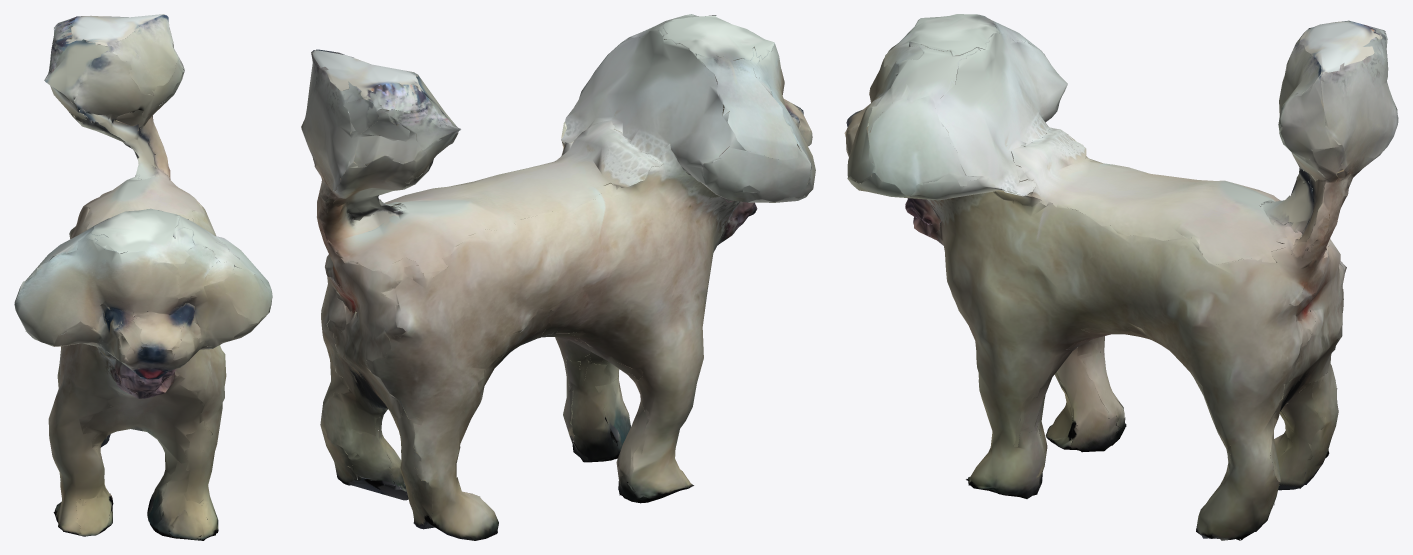
The model's file is beauty.glb.
3 views of the same model, side by side, from view 1: azimuth 30°, elevation 25°; view 2: azimuth 150°, elevation 25°; view 3: azimuth 270°, elevation 25° (orthographic). The views are drawn at different scales.
Parts seen in each view (by area): view 1: beauty; view 2: beauty; view 3: beauty.
Boxes of the visible parts, x1,y1,x2,y2 form: beauty: [14, 14, 272, 540]; beauty: [301, 14, 815, 540]; beauty: [844, 14, 1398, 540].
Size of the model in its own units: 8.83 by 11.3 by 11.61.
Materials: 1 (1 with a texture image).
